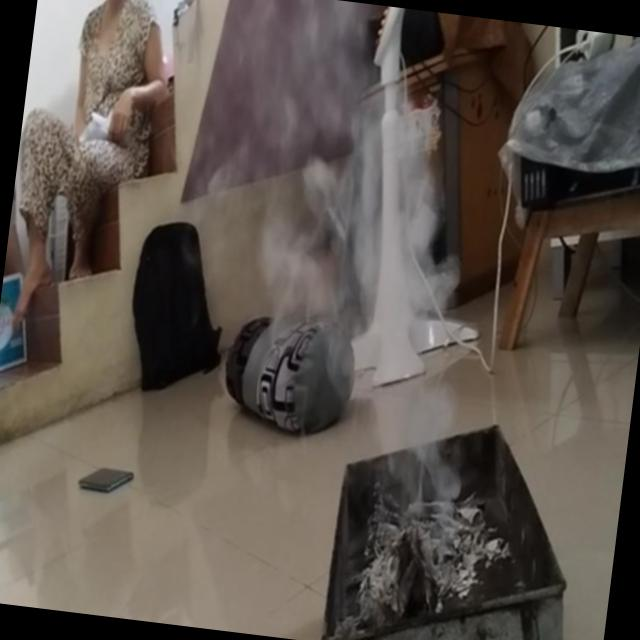smoke: (242, 5, 456, 311), (334, 320, 508, 601)
